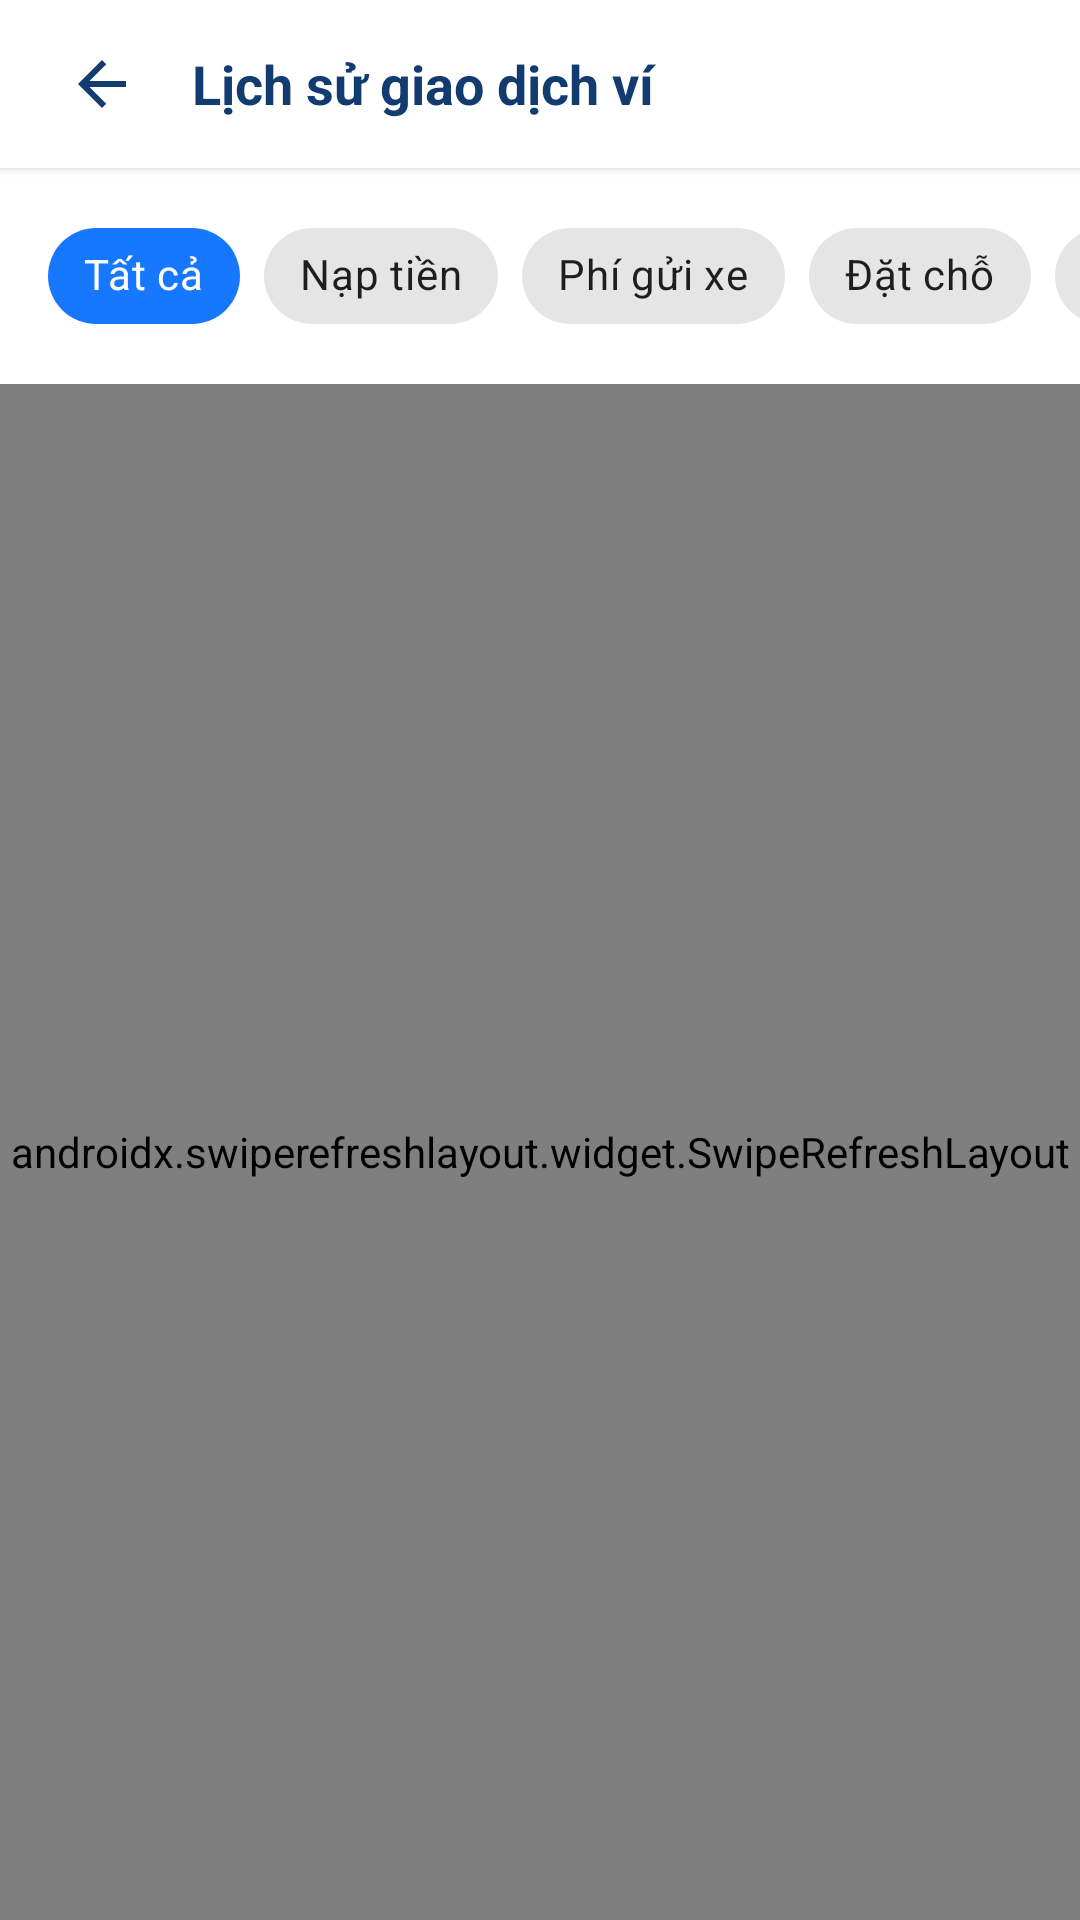

Point at icon controls on the screen. Image size 1080x1920, points as (x=x, y=y).
Quay lại: (x=102, y=84)
